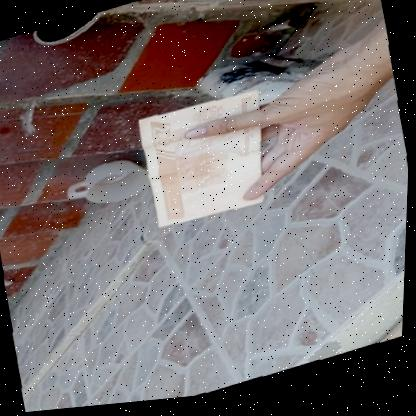vef_back: (134, 87, 282, 239)
